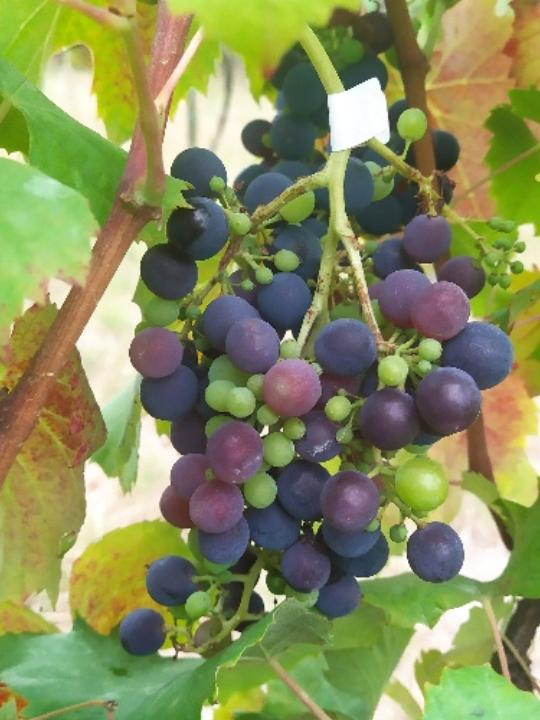grape: (114, 109, 526, 661)
